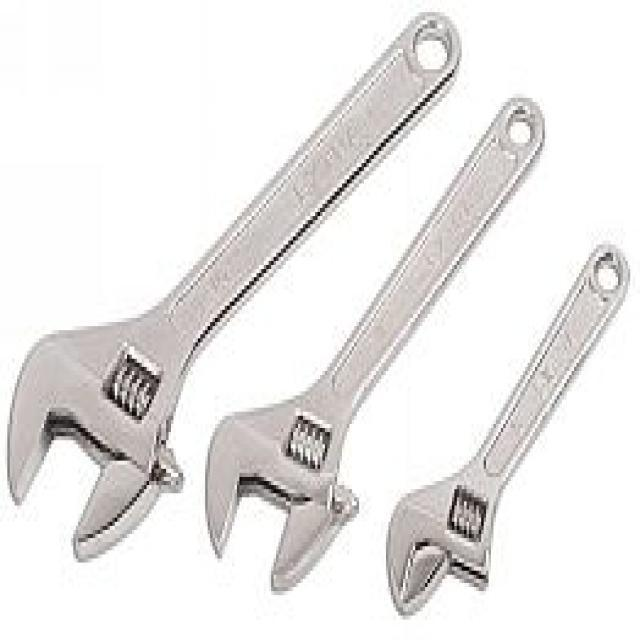wrench: (1, 9, 460, 552), (203, 89, 544, 588), (388, 240, 630, 612)
